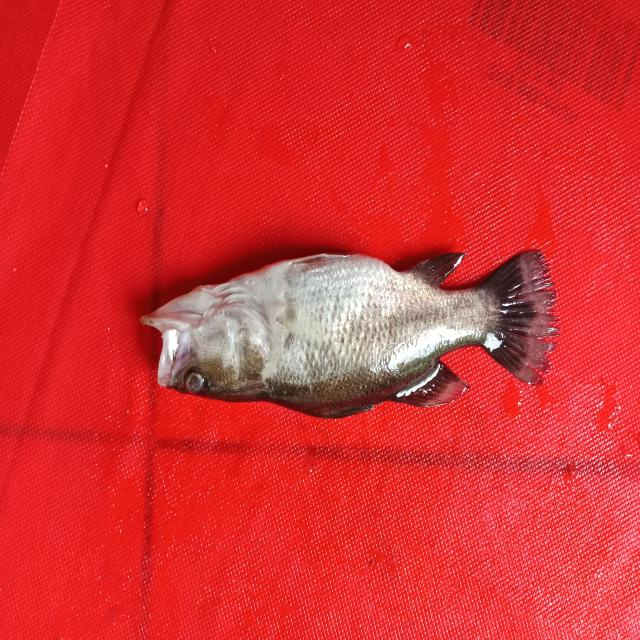ikan: (124, 226, 577, 437)
